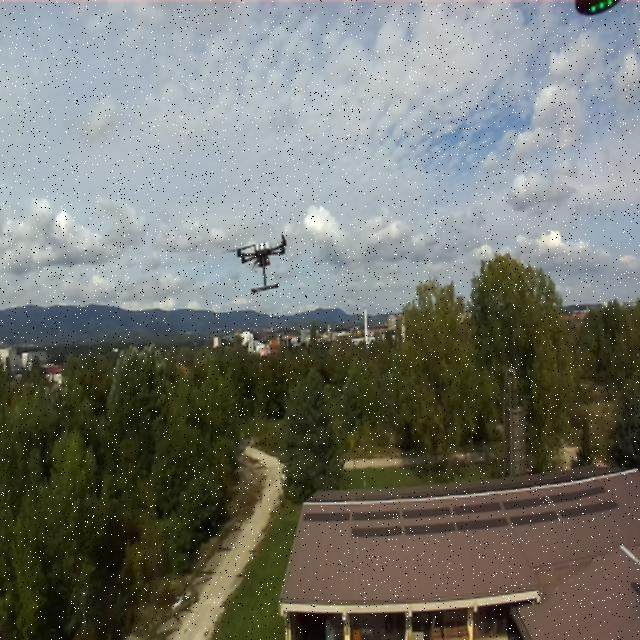UAV: (219, 228, 291, 300)
